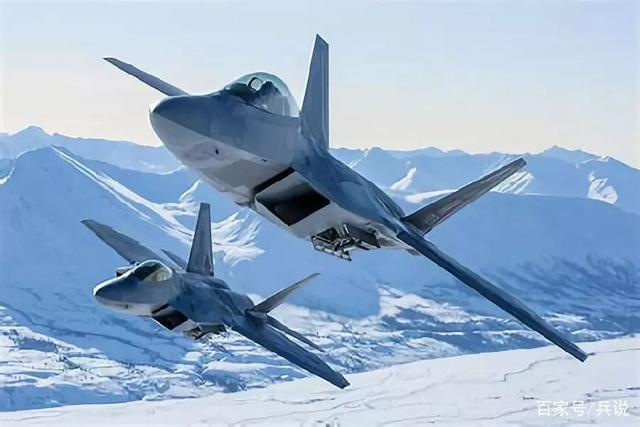airplane: (95, 30, 593, 362), (75, 216, 352, 388)
